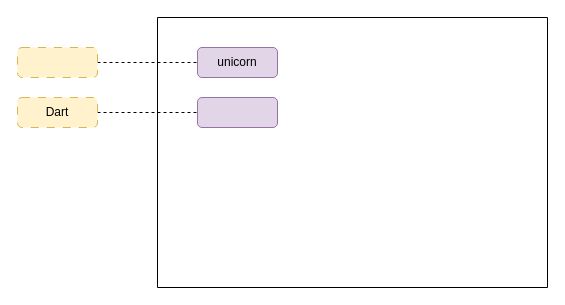
The diagram is 565 pixels wide and 305 high, and some of its shapes have lost their labels. The centre of each missing label's shape, as x and y in pixels:
aqueduct: the point at 237,112
Ruby: the point at 57,62
